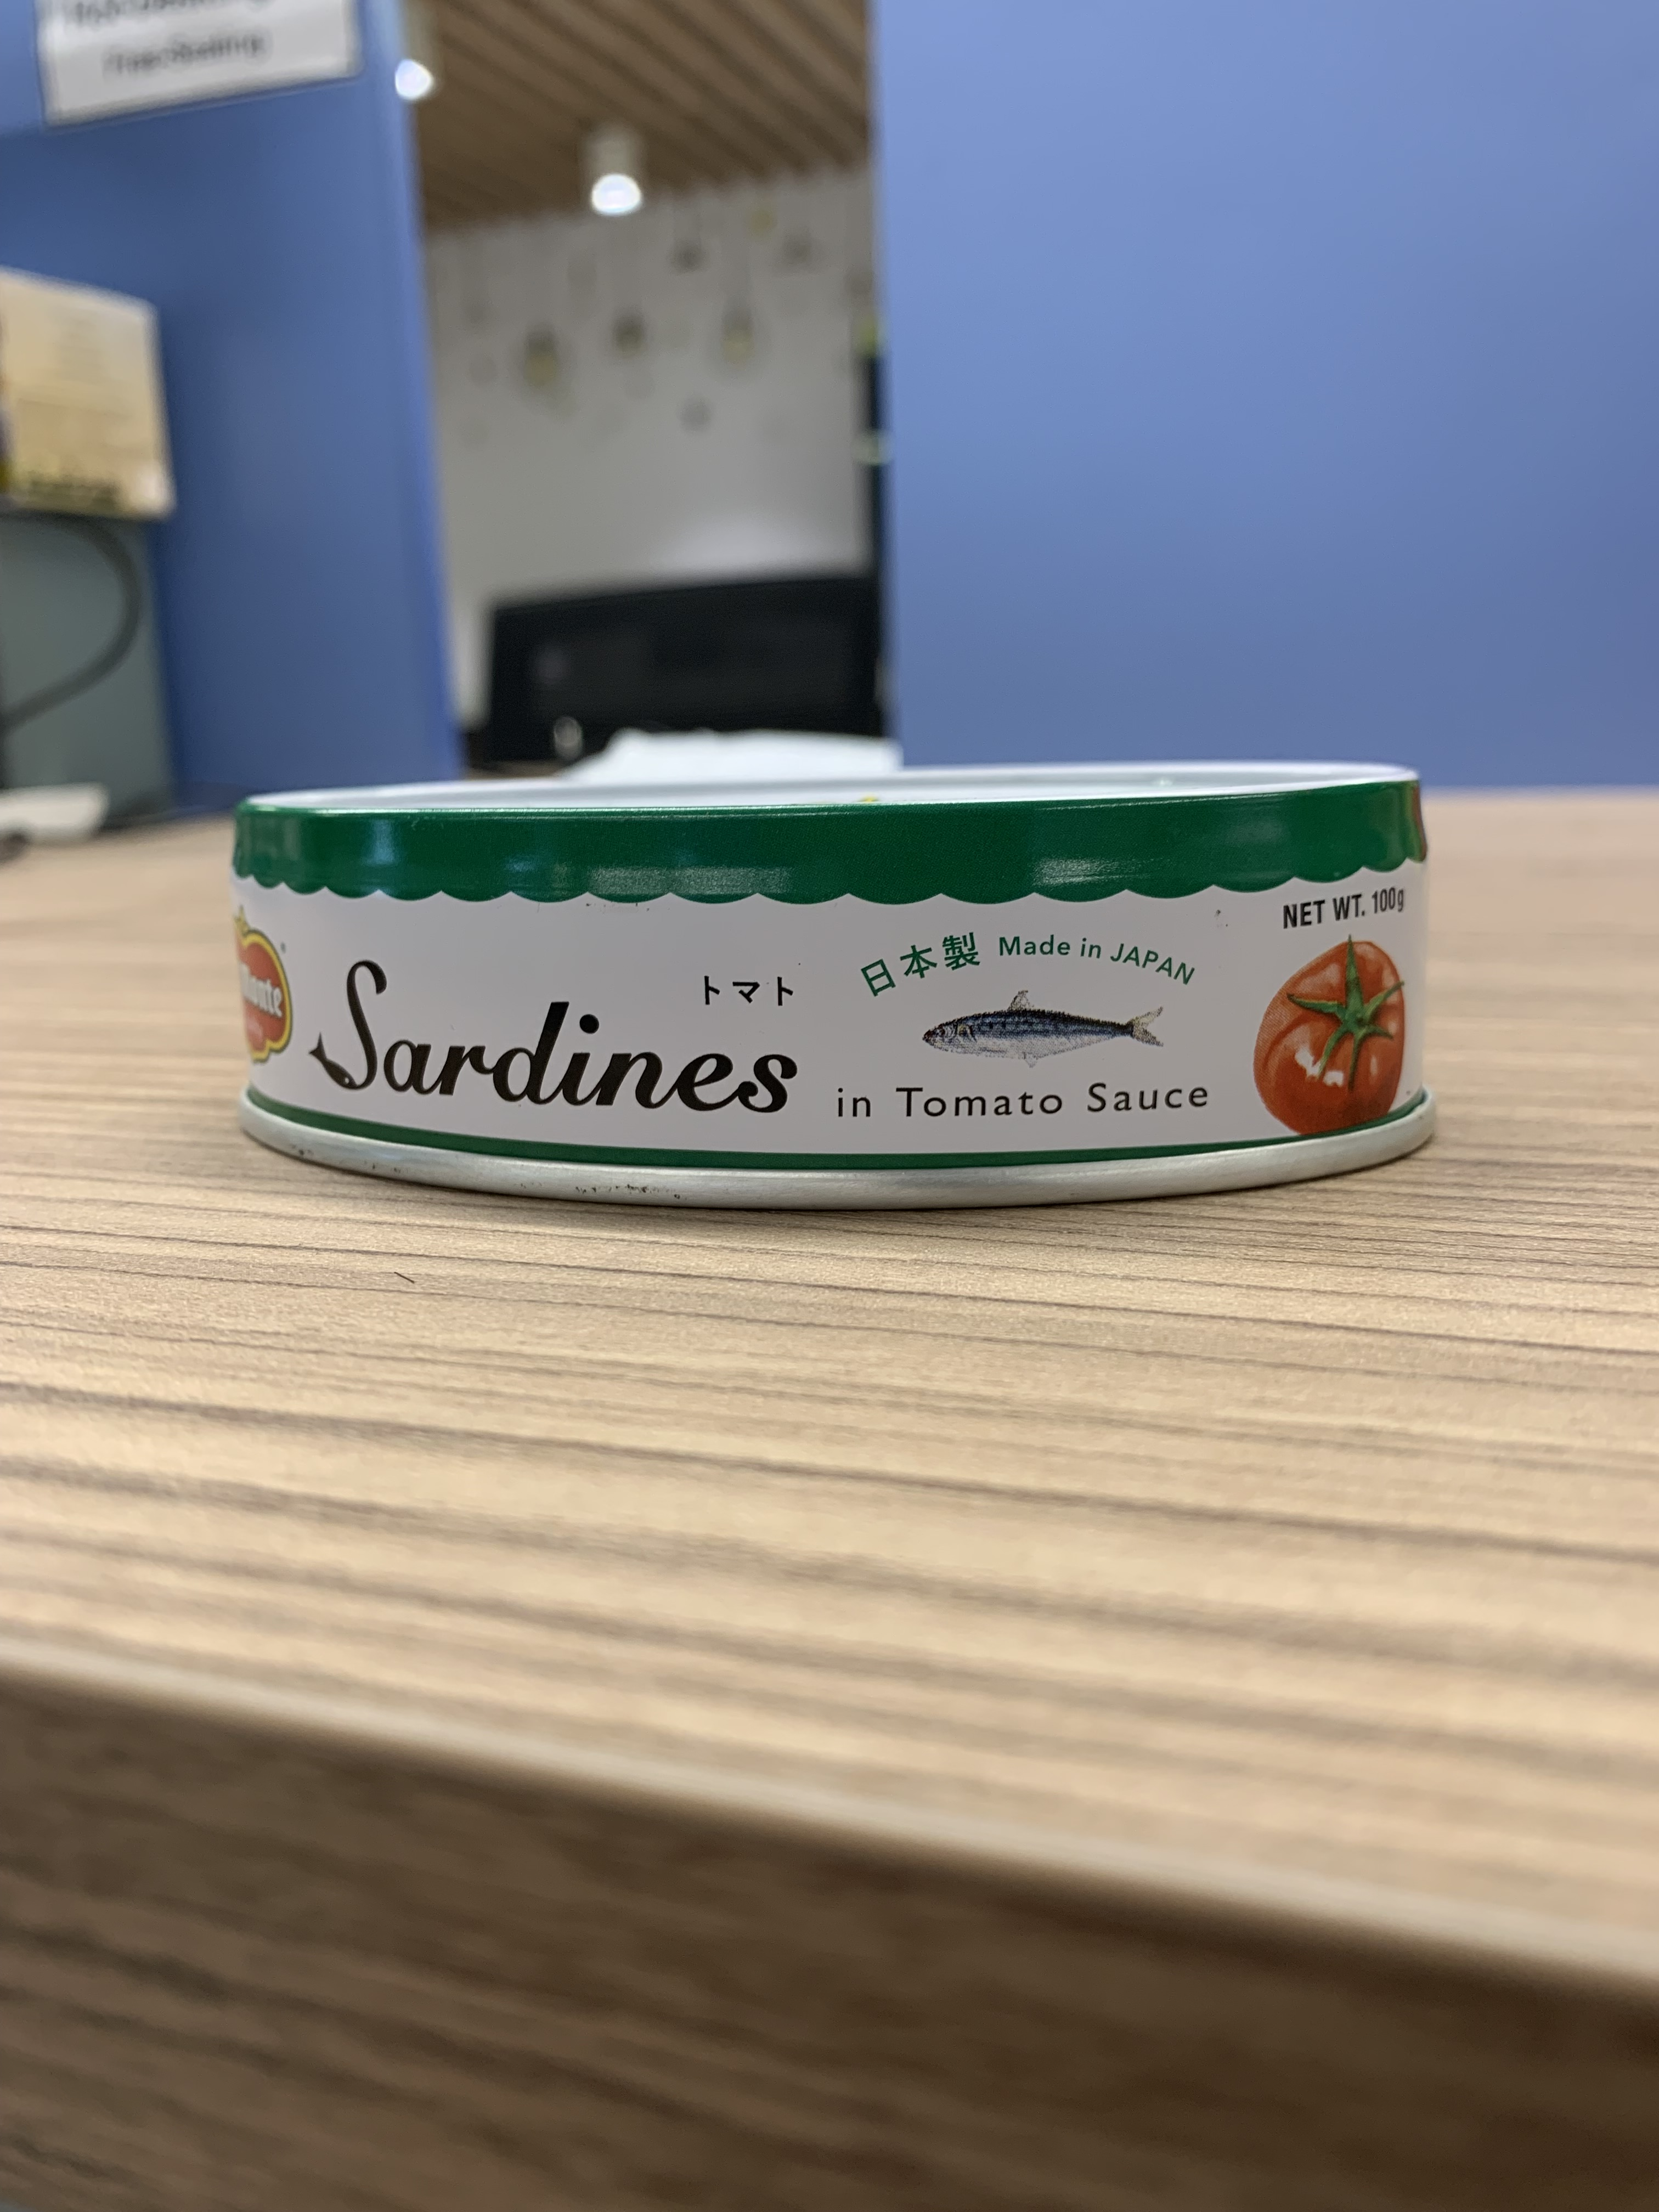sardines: (213, 745, 1462, 1200)
